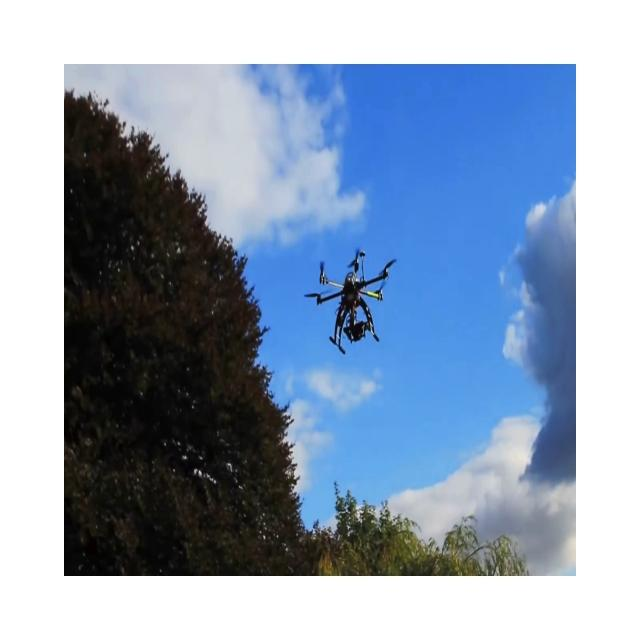drone: (303, 248, 397, 354)
